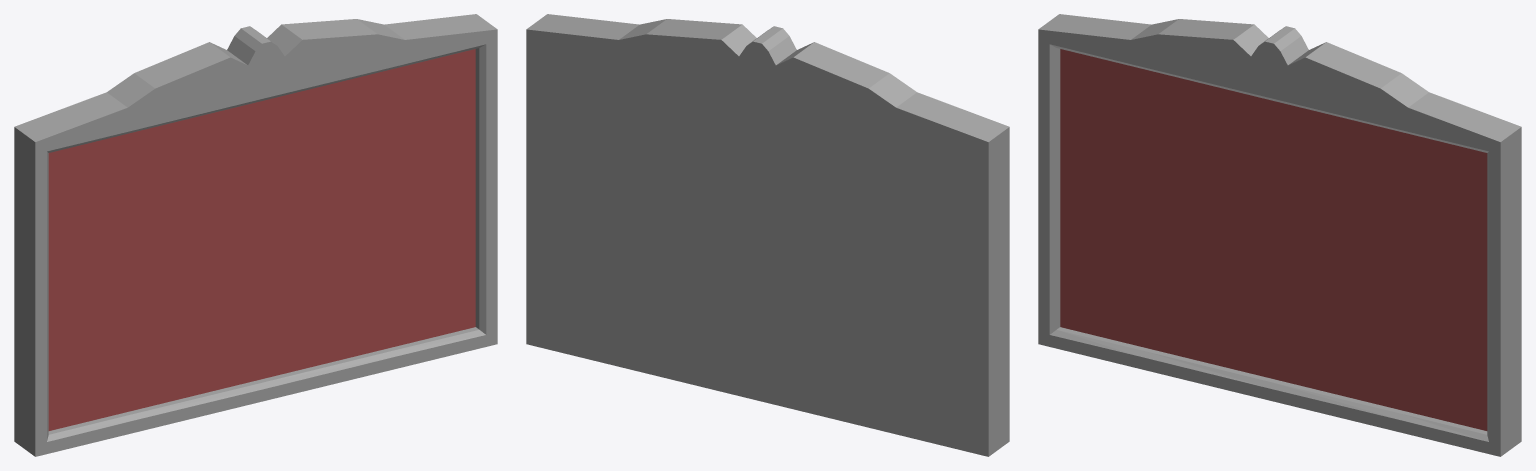
The model's file is frame4_5-2-20.fbx.
3 views of the same model, side by side, from view 1: azimuth 30°, elevation 25°; view 2: azimuth 150°, elevation 25°; view 3: azimuth 330°, elevation 25° (orthographic).
Parts seen in each view (by area): view 1: pCube4; view 2: pCube4; view 3: pCube4.
Boxes of the visible parts, left/top/right/bottom form: pCube4: left=14, top=14, right=497, bottom=456; pCube4: left=526, top=14, right=1009, bottom=456; pCube4: left=1038, top=14, right=1521, bottom=456.
Size of the model in its own units: 129 by 95.28 by 10.18.
